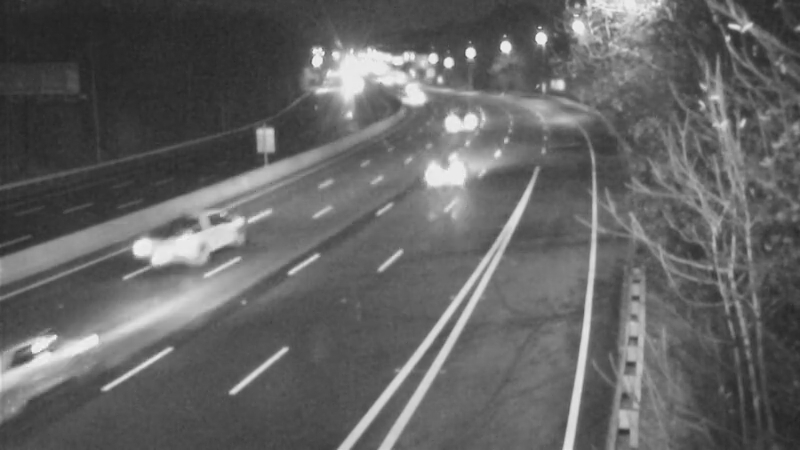vehicle: (1, 322, 92, 432), (414, 137, 494, 217), (156, 191, 236, 271), (385, 75, 435, 125), (431, 96, 481, 146)
